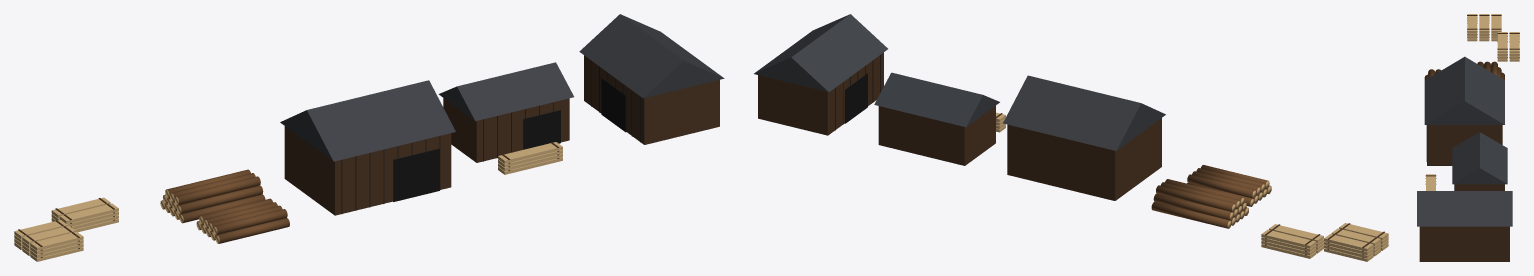
File: serraria.glb
3 renders of one model, left to right at view 1: azimuth 30°, elevation 25°; view 2: azimuth 150°, elevation 25°; view 3: azimuth 270°, elevation 25°, orthographic. The views are drawn at different scales.
Visible parts, largest first — view 1: telhado.002, galpao.002, telhado, galpao, telhado.001, galpao.001, abertura.002, abertura.001, abertura, tora.005, tora.009, tora.012 (+9 smaller); view 2: galpao.002, telhado.002, telhado, galpao, galpao.001, telhado.001, abertura, tora.004, tora.008, tora.011, tora.020, tabuas.011 (+4 smaller); view 3: telhado.002, telhado, galpao, telhado.001, galpao.002, galpao.001, tabuas.007, tabuas.011, tabuas.015, tabuas.019, tabuas.023, tabuas.003 (+1 smaller).
Boxes of the visible parts, box(x1,y1,x2,y2) form: telhado.002: box(280, 80, 455, 161); galpao.002: box(284, 126, 451, 215); telhado: box(579, 14, 724, 98); galpao: box(584, 55, 719, 144); telhado.001: box(438, 62, 573, 121); galpao.001: box(443, 98, 569, 162); abertura.002: box(393, 148, 439, 201); abertura.001: box(523, 110, 560, 149); abertura: box(601, 78, 626, 132); tora.005: box(177, 185, 263, 214); tora.009: box(175, 176, 260, 205); tora.012: box(216, 218, 289, 243); galpao.002: box(1007, 118, 1161, 200); telhado.002: box(1003, 75, 1165, 150); telhado: box(754, 14, 887, 92); galpao: box(758, 52, 883, 135); galpao.001: box(878, 105, 995, 165); telhado.001: box(874, 72, 999, 126); abertura: box(845, 73, 867, 123); tora.004: box(1151, 202, 1230, 228); tora.008: box(1153, 193, 1232, 220); tora.011: box(1156, 185, 1235, 211); tora.020: box(1187, 174, 1255, 198); tabuas.011: box(1261, 229, 1316, 248); telhado.002: box(1424, 56, 1504, 124); telhado: box(1417, 191, 1512, 226); galpao: box(1419, 226, 1509, 261); telhado.001: box(1452, 132, 1507, 184); galpao.002: box(1427, 125, 1502, 165); galpao.001: box(1454, 184, 1504, 190); tabuas.007: box(1497, 32, 1507, 53); tabuas.011: box(1509, 32, 1519, 53); tabuas.015: box(1467, 14, 1477, 33); tabuas.019: box(1479, 14, 1489, 33); tabuas.023: box(1491, 14, 1501, 33); tabuas.003: box(1426, 174, 1435, 190).
Bounding box in the file's own units: 56.12 × 7.25 × 10.23.
